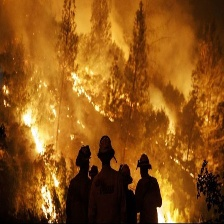fire: (67, 65, 107, 118), (14, 103, 49, 154), (34, 169, 62, 217), (149, 199, 188, 221), (170, 152, 196, 180)
smoke: (7, 1, 217, 70)
